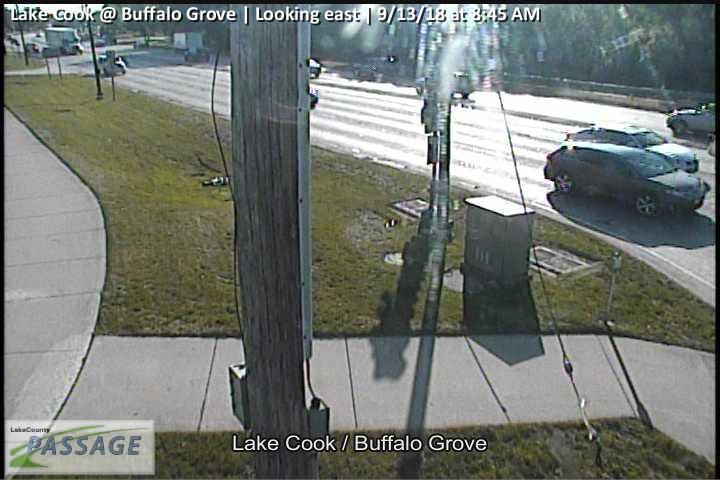SUV: (545, 141, 706, 218), (563, 126, 699, 182)
Truck: (46, 26, 82, 54)
